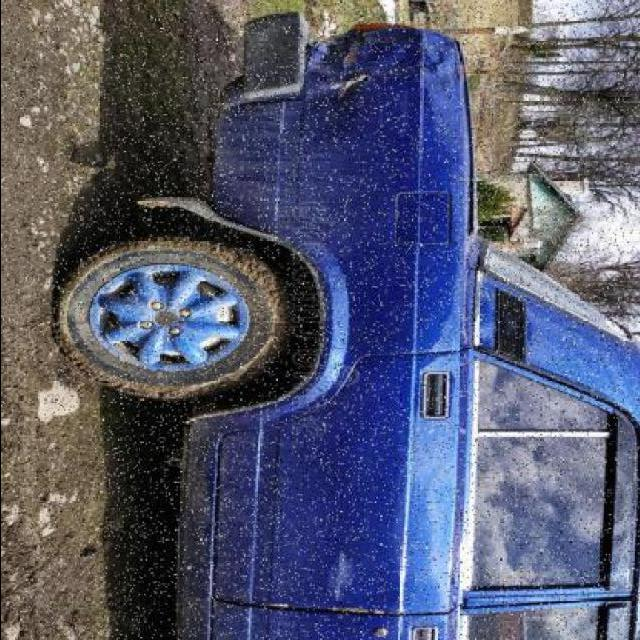doorouter-dent: (214, 355, 466, 607)
quaterpanel-dent: (250, 37, 469, 355)
